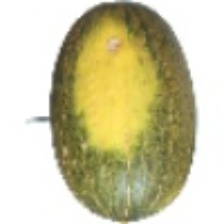honeydew: (33, 17, 214, 206)
